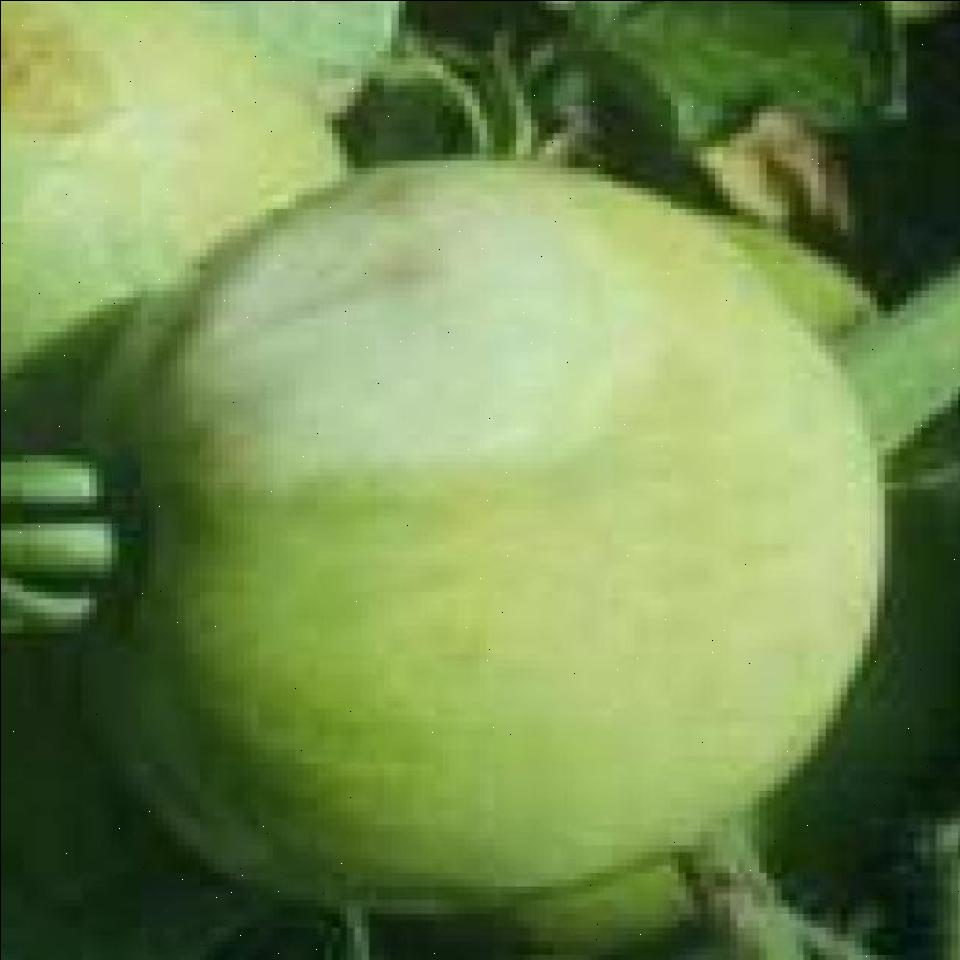Sunscald: (139, 157, 699, 520)
